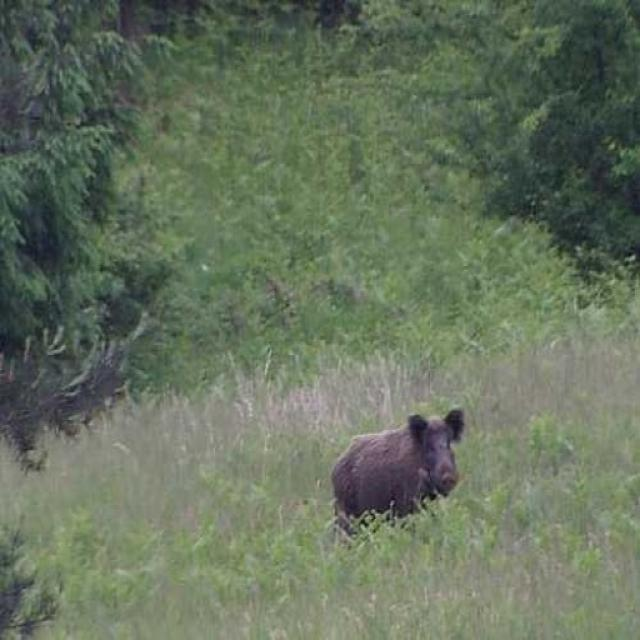pig: (283, 385, 470, 543)
